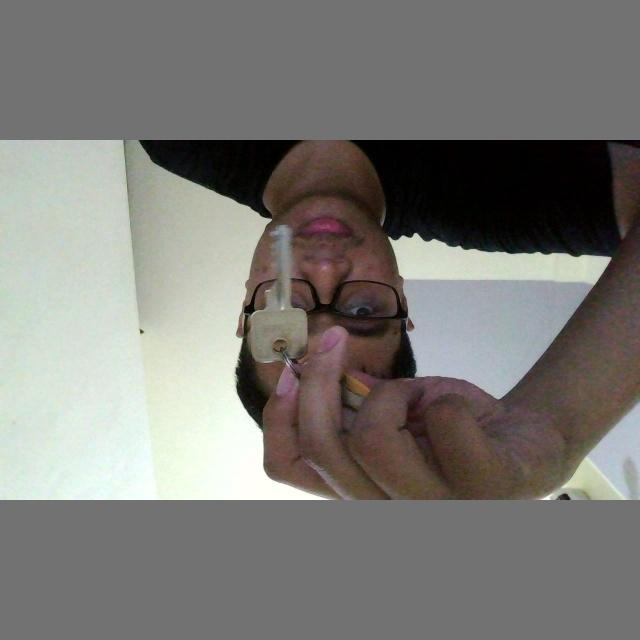Keys: (250, 215, 312, 378)
